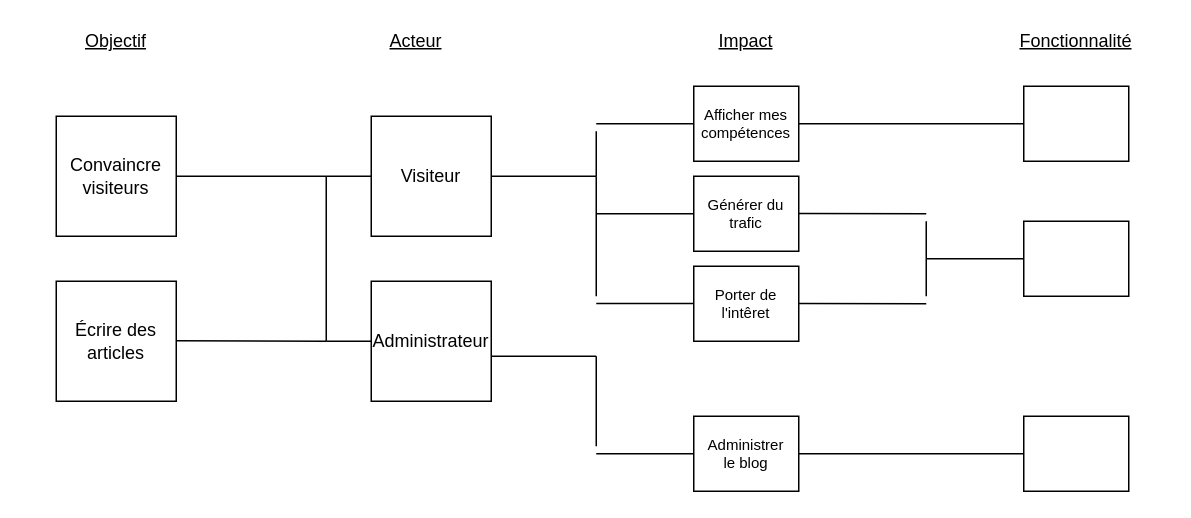
Image size: 1191x518. Some labels were removed from this diagram. The centre of each missing label's shape, as x and y in pixels:
Blog: point 1075,258
CRUD article: point 1075,453
Section compétences: point 1075,123
